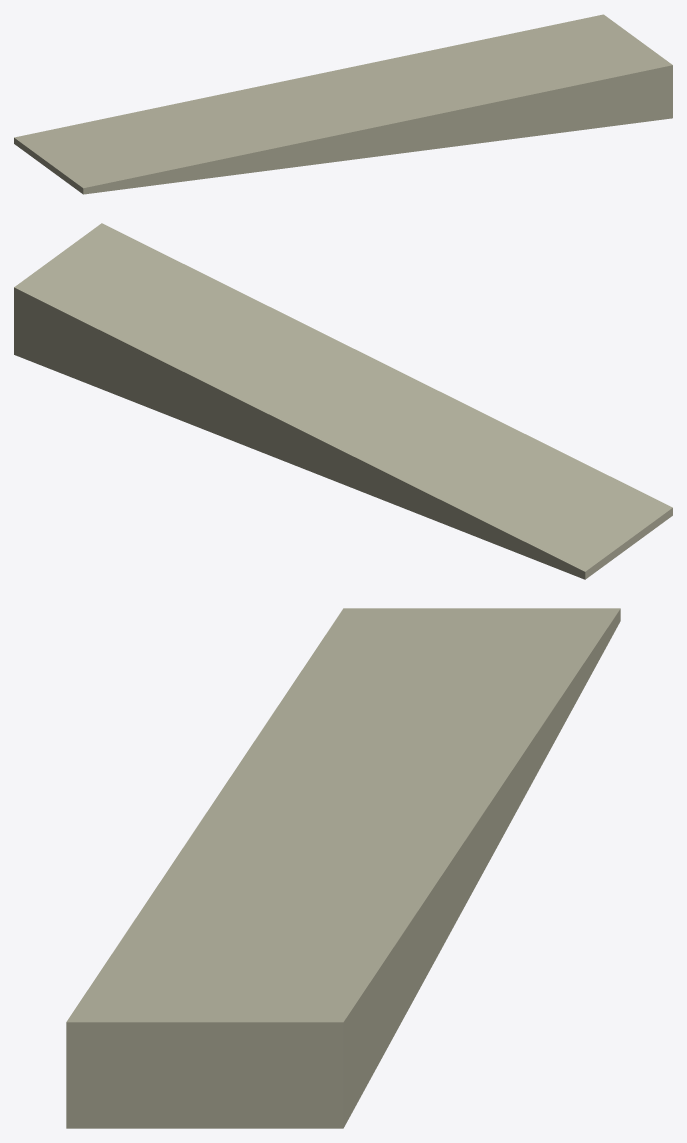
File: SM_AccessRamp.fbx
The picture shows the model from 3 angles, top to bottom: view 1: azimuth 30°, elevation 25°; view 2: azimuth 150°, elevation 25°; view 3: azimuth 270°, elevation 25°; orthographic projection. The views are drawn at different scales.
Visible parts, largest first — view 1: SM_AccessRamp; view 2: SM_AccessRamp; view 3: SM_AccessRamp.
Part boxes in pixels (x1=…): SM_AccessRamp: x1=14, y1=14, x2=672, y2=194; SM_AccessRamp: x1=14, y1=223, x2=672, y2=579; SM_AccessRamp: x1=66, y1=608, x2=620, y2=1128.
Bounding box in the file's own units: 1300 × 600 × 127.
